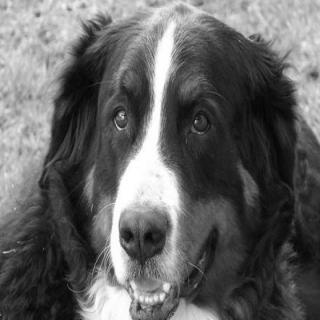dog: (52, 19, 301, 320)
nose: (113, 204, 174, 266)
